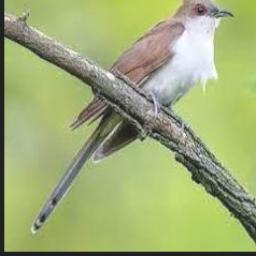Cuckoo: (31, 0, 233, 232)
